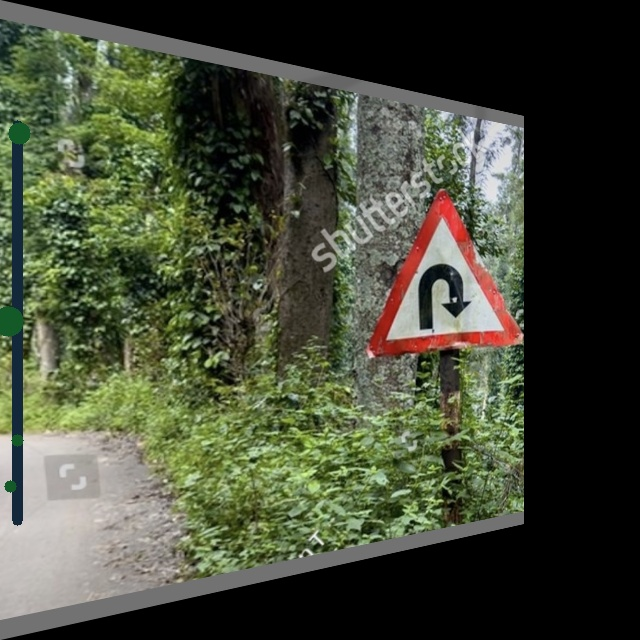Right_Hair_Pin_Bend: (375, 179, 523, 349)
